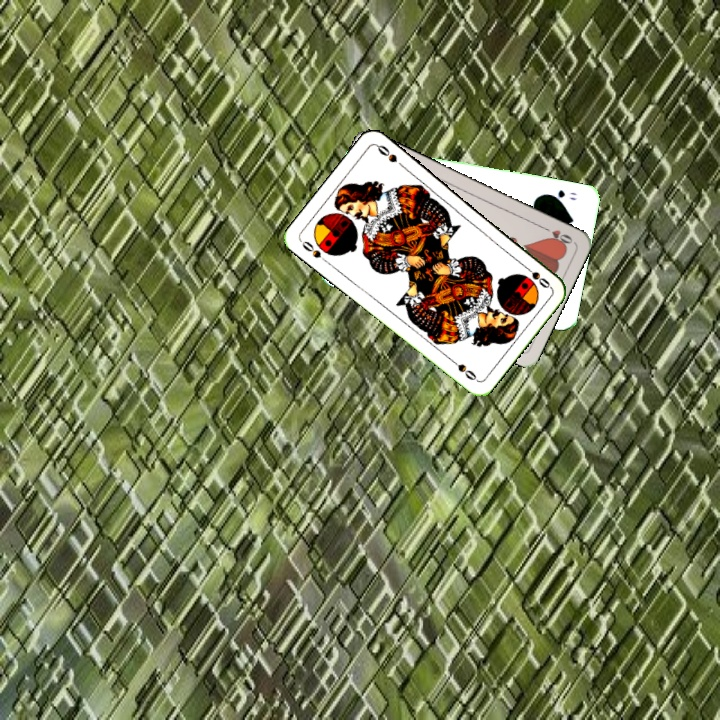GO: (543, 186, 580, 203)
HO: (538, 222, 575, 248)
SO: (519, 260, 553, 291), (297, 237, 331, 266)
